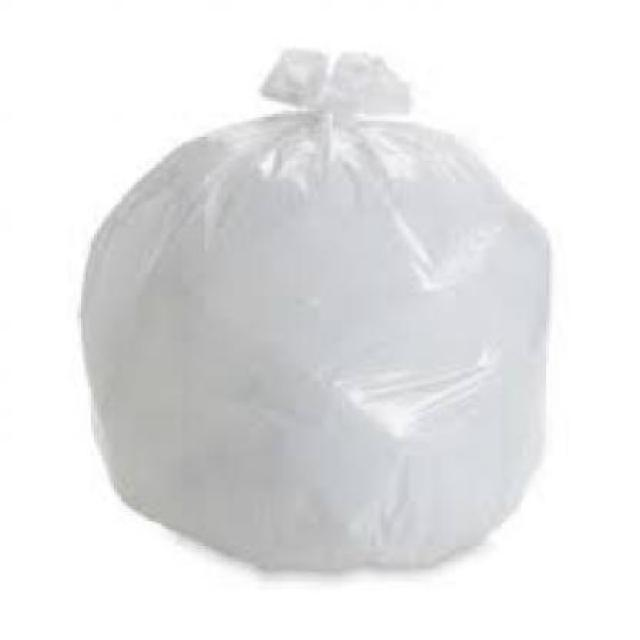PLASTIC: (74, 46, 549, 563)
